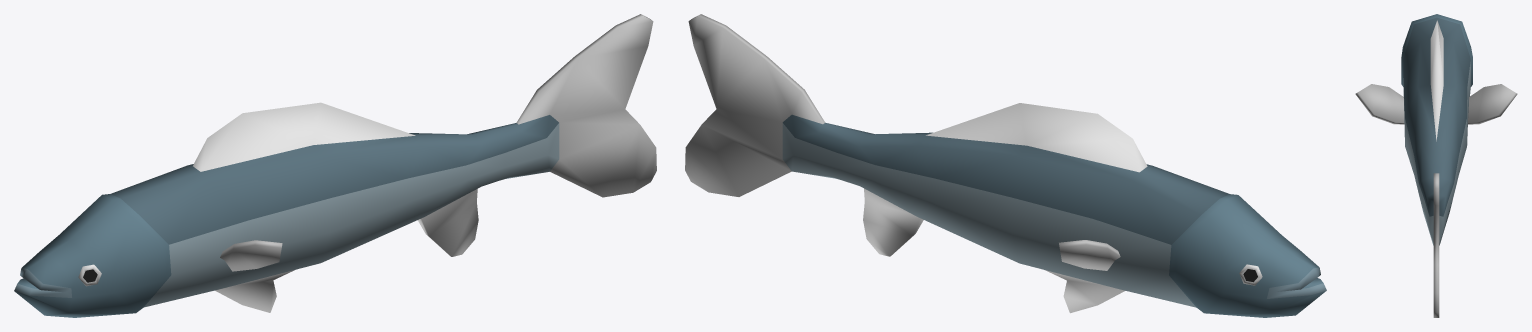
The model's file is Fish_028.fbx.
The picture shows the model from 3 angles, left to right: view 1: azimuth 30°, elevation 25°; view 2: azimuth 150°, elevation 25°; view 3: azimuth 270°, elevation 25°; orthographic projection. The views are drawn at different scales.
Parts seen in each view (by area): view 1: Fish_028; view 2: Fish_028; view 3: Fish_028.
Boxes of the visible parts, <box> form: Fish_028: <box>14,14,656,317</box>; Fish_028: <box>685,14,1326,317</box>; Fish_028: <box>1355,14,1517,317</box>.
Bounding box in the file's own units: 128 × 34.39 × 39.53.
1 material, 1 textured.
